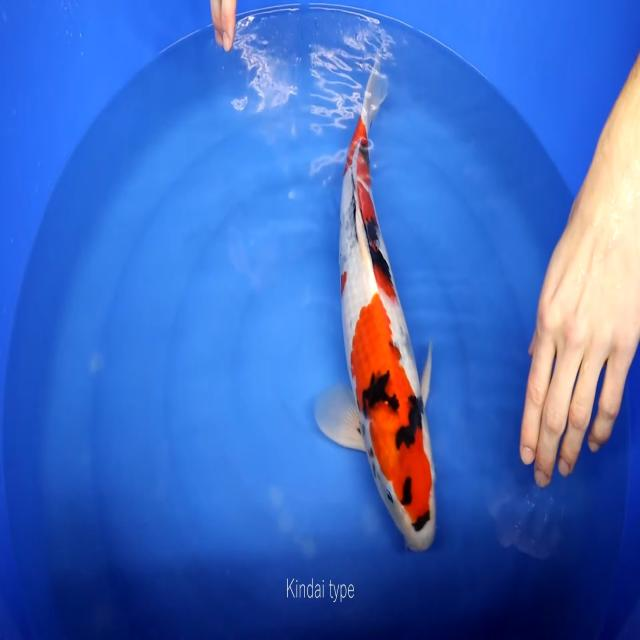Showa: (314, 57, 436, 552)
